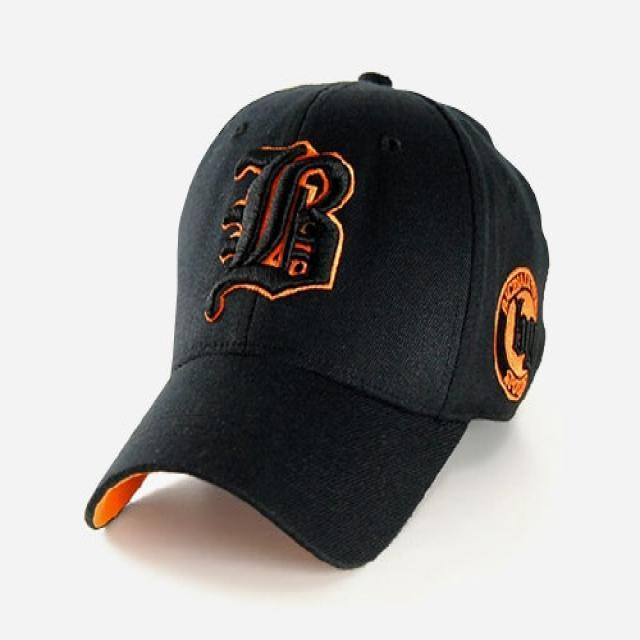hidden camera: (292, 260, 305, 275)
